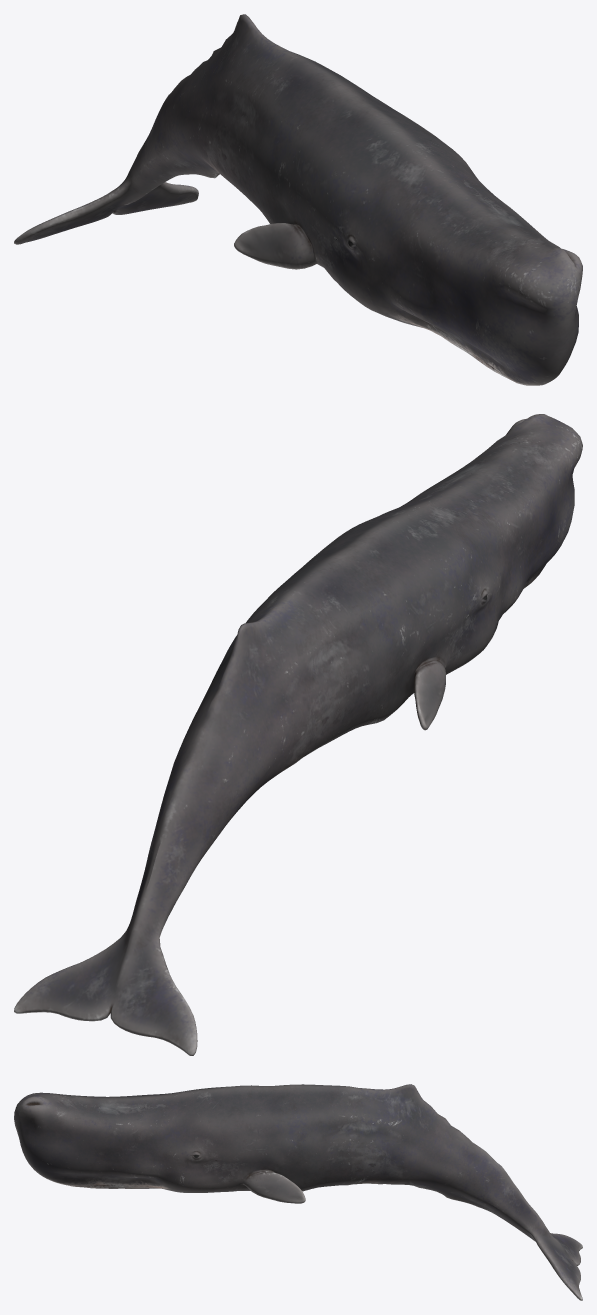
Rendered from model-physeter-macrocephalus.glb.
3 views of the same model, one above another, from view 1: azimuth 30°, elevation 25°; view 2: azimuth 150°, elevation 25°; view 3: azimuth 270°, elevation 25° (orthographic). The views are drawn at different scales.
Visible parts, largest first — view 1: cachalot_low:polySurface1_cachalot_low:initialShadingGroup1_; view 2: cachalot_low:polySurface1_cachalot_low:initialShadingGroup1_; view 3: cachalot_low:polySurface1_cachalot_low:initialShadingGroup1_.
Boxes of the visible parts, x1=… form: cachalot_low:polySurface1_cachalot_low:initialShadingGroup1_: x1=14, y1=14, x2=582, y2=385; cachalot_low:polySurface1_cachalot_low:initialShadingGroup1_: x1=14, y1=414, x2=582, y2=1055; cachalot_low:polySurface1_cachalot_low:initialShadingGroup1_: x1=14, y1=1084, x2=582, y2=1300.
Bounding box in the file's own units: 4.71 × 7.15 × 19.41.
Materials: 1 (1 with a texture image).
